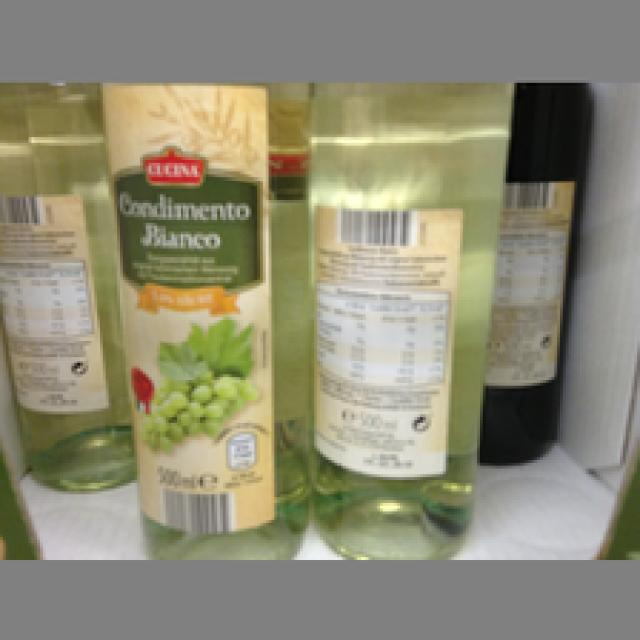groceries: (94, 77, 314, 560), (314, 83, 512, 563), (0, 80, 137, 489)
